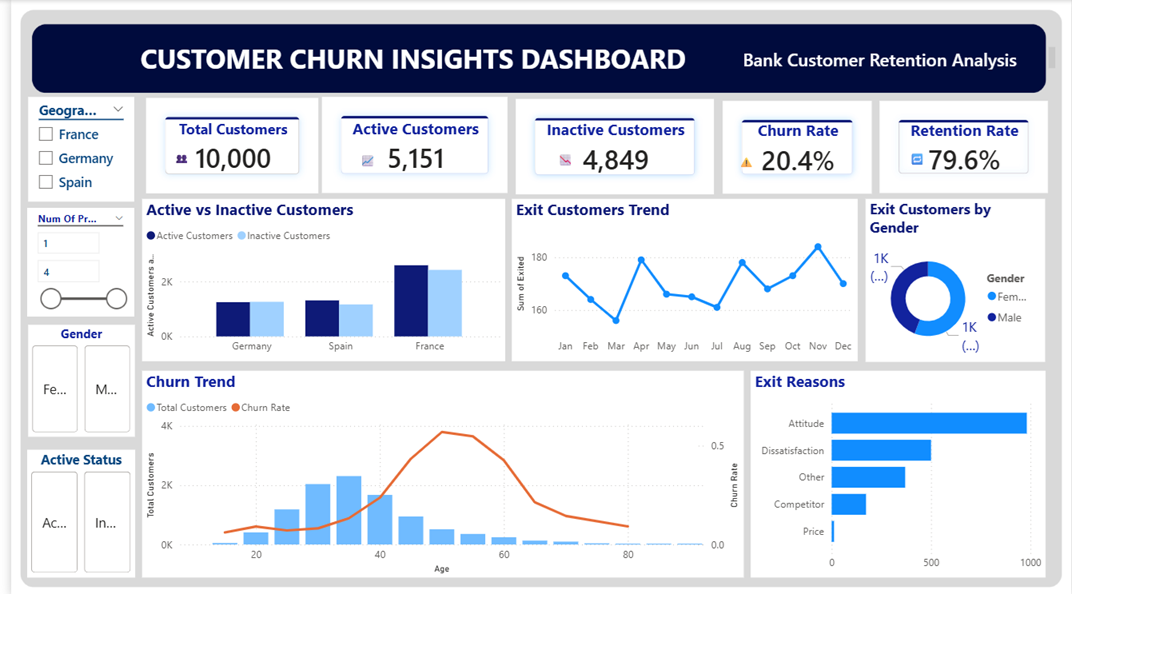

Layout of this report page (visuals, bound fields, positions):
{"tool":"powerbi","page":{"name":"Page 1","canvas":[1280,720],"ordinal":0},"visuals":[{"type":"textbox","box":[0,43.4,979.6,54.3],"z":0},{"type":"cardVisual","fields":{"Data":["Churn_Modelling.Total Customers"]},"box":[158,113.4,218.4,125.5],"z":1000},{"type":"cardVisual","fields":{"Data":["Churn_Modelling.Active Customers"]},"box":[370.4,112.2,234,126.7],"z":2000},{"type":"cardVisual","fields":{"Data":["Churn_Modelling.Inactive Customers"]},"box":[604.4,114.6,249.7,125.5],"z":3000},{"type":"cardVisual","fields":{"Data":["Churn_Modelling.Churn Rate"]},"box":[853.8,117.5,190,122.5],"z":4000},{"type":"cardVisual","fields":{"Data":["Churn_Modelling.Retention Rate"]},"box":[1043.8,117.5,213.8,121.2],"z":5000},{"type":"clusteredColumnChart","title":"Active vs Inactive Customers","fields":{"Category":["Churn_Modelling.Geography"],"Y":["Churn_Modelling.Active Customers","Churn_Modelling.Inactive Customers"]},"box":[157.5,240,438.8,196.2],"z":6000},{"type":"lineChart","title":"Exit Customers Trend","fields":{"Category":["Churn_Modelling.Month Name"],"Y":["Sum(Churn_Modelling.Exited)"]},"box":[605,240,417.5,196.2],"z":7000},{"type":"donutChart","title":"Exit Customers by Gender","fields":{"Category":["Churn_Modelling.Gender"],"Y":["Sum(Churn_Modelling.Exited)"]},"box":[1031.5,240.1,217.2,196.6],"z":8000},{"type":"lineClusteredColumnComboChart","title":"Churn Trend","fields":{"Category":["Churn_Modelling.Age Bucket Sort"],"Y":["Churn_Modelling.Total Customers"],"Y2":["Churn_Modelling.Churn Rate"]},"box":[158,447.6,726.3,249.7],"z":9000},{"type":"clusteredBarChart","title":"Exit Reasons","fields":{"Category":["Churn_Modelling.Exit Reason"],"Y":["Sum(Churn_Modelling.Exited)"]},"box":[892.8,447.6,355.9,249.7],"z":10000},{"type":"slicer","fields":{"Values":["Churn_Modelling.Geography"]},"box":[20.5,117,127.9,126.7],"z":11000},{"type":"slicer","fields":{"Values":["Churn_Modelling.NumOfProducts"]},"box":[18.8,251.2,128.8,131.2],"z":12000},{"type":"advancedSlicerVisual","fields":{"Values":["Churn_Modelling.Gender"]},"box":[20,392.5,128.8,135],"z":13000},{"type":"advancedSlicerVisual","fields":{"Values":["Churn_Modelling.Active Status"]},"box":[19.3,542.9,130.3,154.4],"z":14000},{"type":"textbox","box":[191.8,176.1,29,27.7],"z":15000},{"type":"textbox","box":[655.1,178.6,29,27.7],"z":16000},{"type":"textbox","box":[416.2,179.8,27.7,27.7],"z":16001},{"type":"textbox","box":[873.5,181,30.2,32.6],"z":16002},{"type":"textbox","box":[1079.8,177.3,37.4,27.7],"z":16003},{"type":"textbox","box":[839.7,51.9,425.9,37.4],"z":16004}]}

Visuals, with their boxes in screenshot pixels (x1, y1, x2, y2), scaled from the page's 1280x720 canvas onto the 1152x648 screenshot:
textbox: [0, 39, 882, 88]
cardVisual - Churn_Modelling.Total Customers: [142, 102, 339, 215]
cardVisual - Churn_Modelling.Active Customers: [333, 101, 544, 215]
cardVisual - Churn_Modelling.Inactive Customers: [544, 103, 769, 216]
cardVisual - Churn_Modelling.Churn Rate: [768, 106, 939, 216]
cardVisual - Churn_Modelling.Retention Rate: [939, 106, 1132, 215]
"Active vs Inactive Customers" clusteredColumnChart: [142, 216, 537, 393]
"Exit Customers Trend" lineChart: [544, 216, 920, 393]
"Exit Customers by Gender" donutChart: [928, 216, 1124, 393]
"Churn Trend" lineClusteredColumnComboChart: [142, 403, 796, 628]
"Exit Reasons" clusteredBarChart: [804, 403, 1124, 628]
slicer - Churn_Modelling.Geography: [18, 105, 134, 219]
slicer - Churn_Modelling.NumOfProducts: [17, 226, 133, 344]
advancedSlicerVisual - Churn_Modelling.Gender: [18, 353, 134, 475]
advancedSlicerVisual - Churn_Modelling.Active Status: [17, 489, 135, 628]
textbox: [173, 158, 199, 183]
textbox: [590, 161, 616, 186]
textbox: [375, 162, 400, 187]
textbox: [786, 163, 813, 192]
textbox: [972, 160, 1005, 184]
textbox: [756, 47, 1139, 80]
